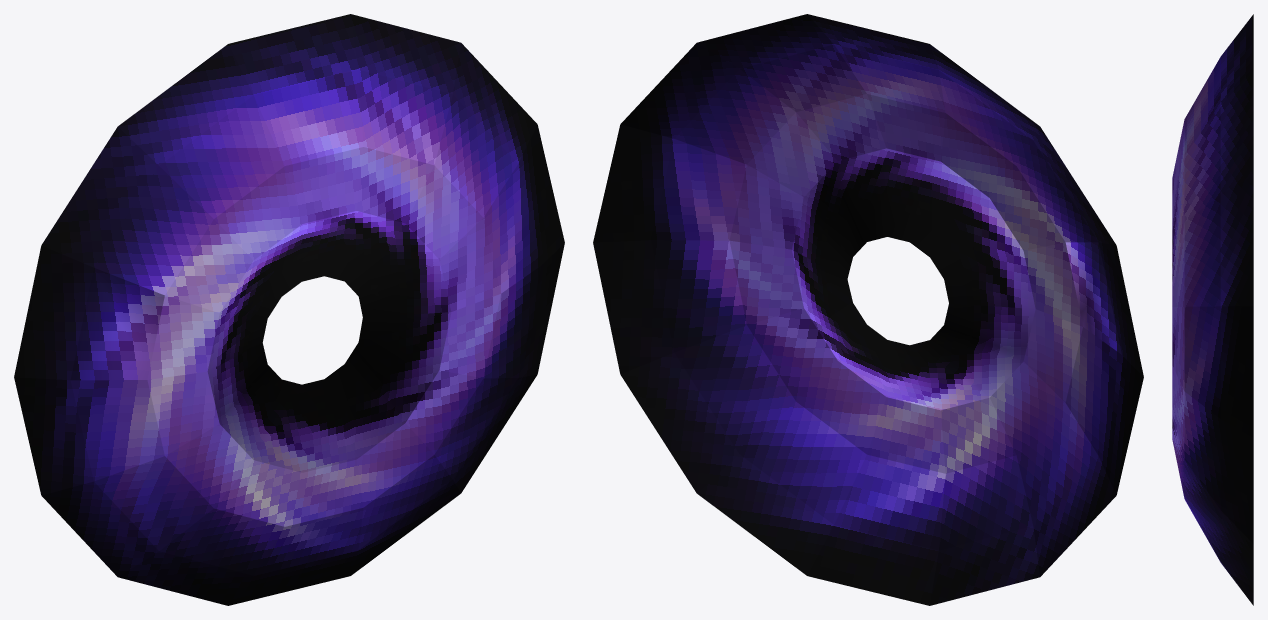
File: ModEff_luoxuan.FBX
3 renders of one model, left to right at view 1: azimuth 30°, elevation 25°; view 2: azimuth 150°, elevation 25°; view 3: azimuth 270°, elevation 25°, orthographic. The views are drawn at different scales.
Parts seen in each view (by area): view 1: Object; view 2: Object; view 3: Object.
Boxes of the visible parts, x1,y1,x2,y2 form: Object: (14,14,564,605); Object: (593,14,1143,605); Object: (1172,14,1253,605).
Bounding box in the file's own units: 66.34 × 64.68 × 8.9.
